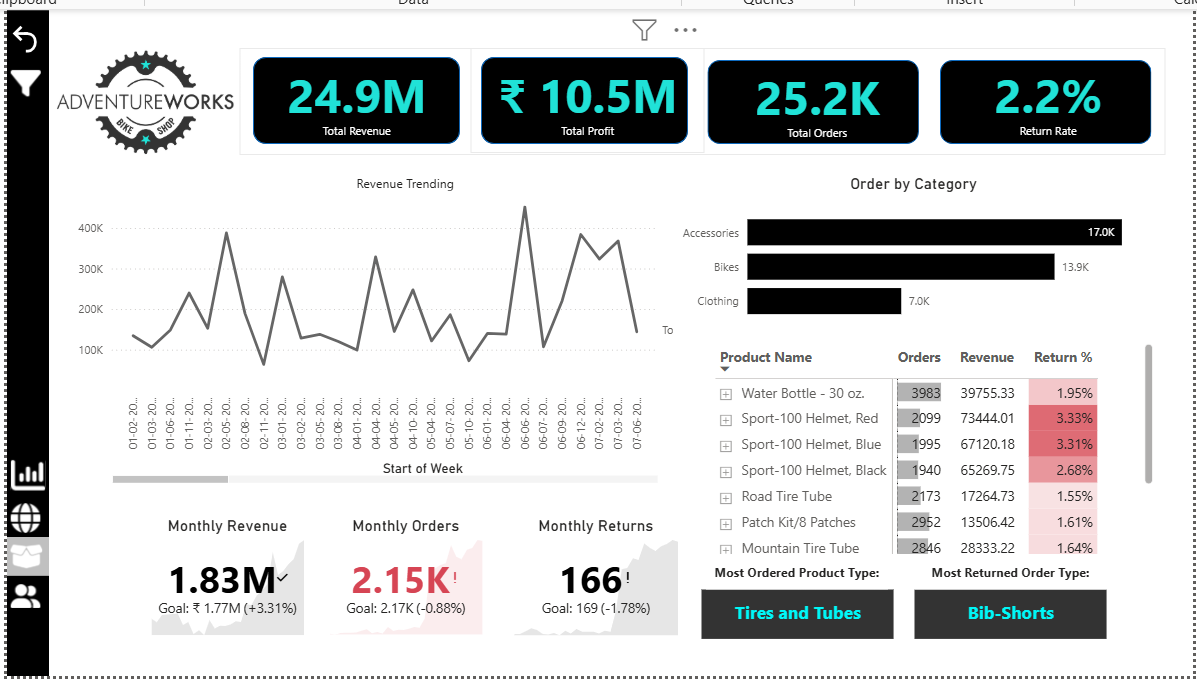

The dashboard page shown, as its layout file describes it:
{"tool":"powerbi","page":{"name":"EXEC DASH","canvas":[1280,720],"ordinal":0},"visuals":[{"type":"image","box":[27.5,0,244.5,200.8],"z":0},{"type":"card","fields":{"Values":["Measure Table.Total Revenue"]},"box":[251,42.1,252.6,113.3],"z":0,"group":"g3"},{"type":"group","id":"g1","title":"KPI Background","box":[265.6,51.8,969.9,93.9],"z":0,"group":"g2"},{"type":"shape","box":[265.6,51.8,223.5,93.9],"z":0,"group":"g1"},{"type":"actionButton","box":[0,529,45.3,40.1],"z":0,"group":"g4"},{"type":"group","id":"g2","title":"KPI","box":[251,42.1,999.1,115],"z":1000},{"type":"group","id":"g3","title":"KPI Values","box":[251,42.1,999.1,115],"z":1000,"group":"g2"},{"type":"card","fields":{"Values":["Measure Table.Return Rate"]},"box":[997.5,42.1,252.6,113.3],"z":1000,"group":"g3"},{"type":"shape","box":[511.2,51.8,223.5,93.9],"z":1000,"group":"g1"},{"type":"actionButton","box":[0,614.1,45.3,40.1],"z":1000,"group":"g4"},{"type":"card","fields":{"Values":["Measure Table.Total Profit"]},"box":[499.8,42.1,252.6,113.3],"z":2000,"group":"g3"},{"type":"shape","box":[756.8,55,228.3,90.7],"z":2000,"group":"g1"},{"type":"actionButton","box":[0,528.4,45.3,40.5],"z":2000},{"type":"actionButton","box":[0,570.7,45.3,41.7],"z":2000,"group":"g4"},{"type":"card","fields":{"Values":["Measure Table.Total Orders"]},"box":[748.6,43.7,252.6,113.3],"z":3000,"group":"g3"},{"type":"shape","box":[1007.2,55,228.3,90.7],"z":3000,"group":"g1"},{"type":"lineChart","title":"Revenue Trending","fields":{"Y":["Measure Table.Total Revenue"],"Category":["Calendar Lookup.Date Hierarchy.Year","Calendar Lookup.Date Hierarchy.Start of Year","Calendar Lookup.Date Hierarchy.Start of Month","Calendar Lookup.Date Hierarchy.Start of Week"]},"box":[71.2,178.1,717.3,338.4],"z":3000},{"type":"actionButton","box":[0,479.3,45.3,48.1],"z":3000,"group":"g4"},{"type":"actionButton","box":[0,614.2,45.3,40.5],"z":4000},{"type":"shape","title":"Left Nav Background","box":[0,1.1,45.3,718.9],"z":5000},{"type":"actionButton","box":[0,570.5,45.3,42.1],"z":6000},{"type":"kpi","title":"Monthly Revenue","fields":{"Indicator":["Measure Table.Total Revenue"],"TrendLine":["Calendar Lookup.Date Hierarchy.Start of Month"],"Goal":["Measure Table.Previous Month Revenue"]},"box":[150,546.7,175,133.3],"z":7000},{"type":"kpi","title":"Monthly Returns","fields":{"TrendLine":["Calendar Lookup.Date Hierarchy.Start of Month"],"Indicator":["Measure Table.Total Returns"],"Goal":["Measure Table.Previous Month Returns"]},"box":[541.7,546.7,186.7,133.3],"z":8000},{"type":"kpi","title":"Monthly Orders","fields":{"TrendLine":["Calendar Lookup.Date Hierarchy.Start of Month"],"Goal":["Measure Table.Previous Month Orders"],"Indicator":["Measure Table.Total Orders"]},"box":[343.3,547.3,174.9,132.8],"z":9000},{"type":"barChart","title":"Order by Category","fields":{"Category":["Product Categories Lookup.CategoryName"],"Y":["Measure Table.Total Orders"]},"box":[718.9,178.1,519.8,181.4],"z":10000},{"type":"pivotTable","fields":{"Rows":["Product Lookup.ProductName","Product Categories Lookup.CategoryName"],"Values":["Measure Table.Total Orders","Measure Table.Total Revenue","Measure Table.Return Rate"]},"box":[759.4,356.2,482.5,236.4],"z":11000},{"type":"card","fields":{"Values":["Min(Product Subcategories Lookup.SubcategoryName)"]},"box":[749.7,626.6,207.3,53.4],"z":12000},{"type":"textbox","box":[754.6,592.6,195.9,34],"z":13000},{"type":"card","fields":{"Values":["Min(Product Subcategories Lookup.SubcategoryName)"]},"box":[979.6,626.6,207.3,53.4],"z":14000},{"type":"textbox","box":[979.6,592.6,207.3,34],"z":15000},{"type":"actionButton","box":[0,13,45.3,38.9],"z":16000},{"type":"group","id":"g4","title":"Navigation buttons","box":[0,479.3,45.3,174.9],"z":17000},{"type":"actionButton","box":[0,59.9,45.3,40.5],"z":18000}]}

Visuals, with their boxes on the page's 1280x720 design canvas (x1, y1, x2, y2). These are canvas units, not pixel positions in the 1197x687 screenshot, which may show the page scaled, cropped or inside an application window:
image: (28,0,272,201)
card - Measure Table.Total Revenue: (251,42,504,155)
"KPI Background" group: (266,52,1236,146)
shape: (266,52,489,146)
actionButton: (0,529,45,569)
"KPI" group: (251,42,1250,157)
"KPI Values" group: (251,42,1250,157)
card - Measure Table.Return Rate: (998,42,1250,155)
shape: (511,52,735,146)
actionButton: (0,614,45,654)
card - Measure Table.Total Profit: (500,42,752,155)
shape: (757,55,985,146)
actionButton: (0,528,45,569)
actionButton: (0,571,45,612)
card - Measure Table.Total Orders: (749,44,1001,157)
shape: (1007,55,1236,146)
"Revenue Trending" lineChart: (71,178,788,516)
actionButton: (0,479,45,527)
actionButton: (0,614,45,655)
"Left Nav Background" shape: (0,1,45,720)
actionButton: (0,570,45,613)
"Monthly Revenue" kpi: (150,547,325,680)
"Monthly Returns" kpi: (542,547,728,680)
"Monthly Orders" kpi: (343,547,518,680)
"Order by Category" barChart: (719,178,1239,360)
pivotTable - Product Lookup.ProductName x Product Categories Lookup.CategoryName: (759,356,1242,593)
card - Min(Product Subcategories Lookup.SubcategoryName): (750,627,957,680)
textbox: (755,593,950,627)
card - Min(Product Subcategories Lookup.SubcategoryName): (980,627,1187,680)
textbox: (980,593,1187,627)
actionButton: (0,13,45,52)
"Navigation buttons" group: (0,479,45,654)
actionButton: (0,60,45,100)
